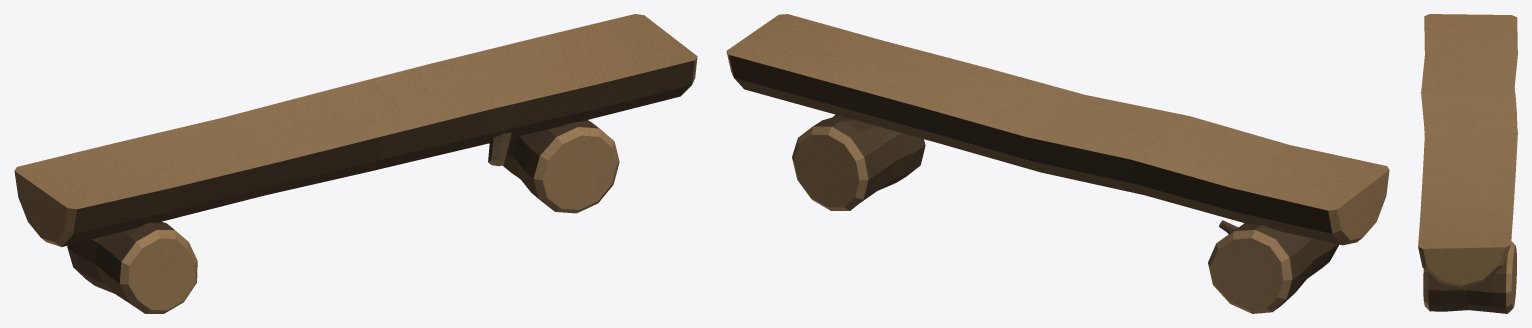
The model's file is Bench.fbx.
The picture shows the model from 3 angles, left to right: view 1: azimuth 30°, elevation 25°; view 2: azimuth 150°, elevation 25°; view 3: azimuth 270°, elevation 25°; orthographic projection. The views are drawn at different scales.
Visible parts, largest first — view 1: Bench; view 2: Bench; view 3: Bench.
Part boxes in pixels (x1,y1,x2,y2): Bench: (14,14,697,313); Bench: (726,14,1389,313); Bench: (1418,14,1517,313).
Size of the model in its own units: 290 by 59.83 by 51.79.
